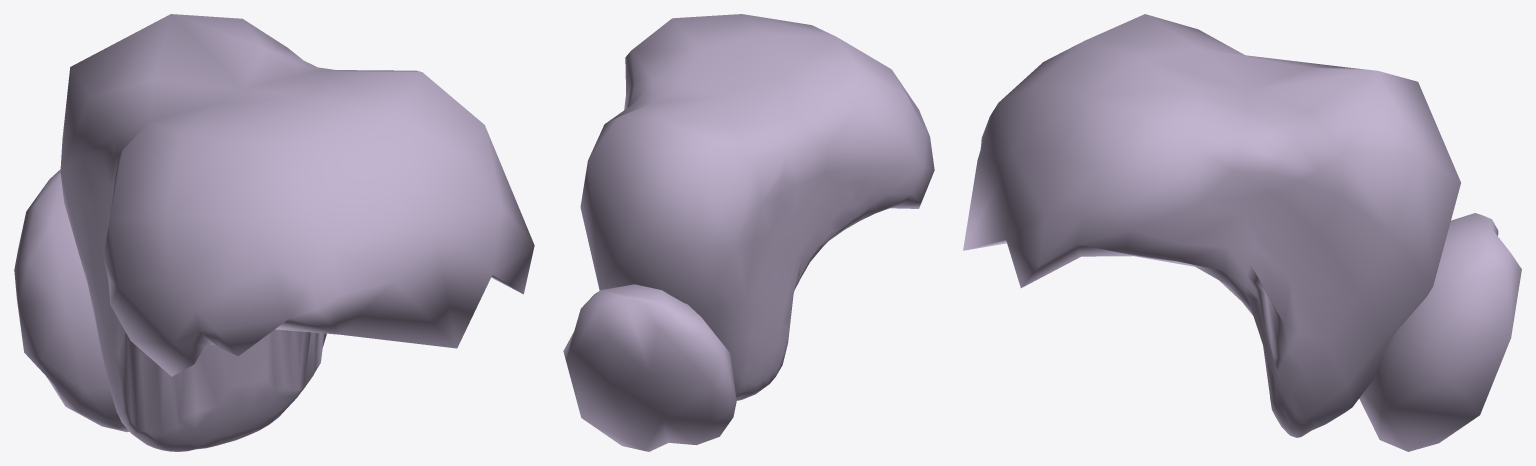
File: Mane_18.fbx
3 renders of one model, left to right at view 1: azimuth 30°, elevation 25°; view 2: azimuth 150°, elevation 25°; view 3: azimuth 270°, elevation 25°, orthographic. The views are drawn at different scales.
Parts seen in each view (by area): view 1: Mane_18; view 2: Mane_18; view 3: Mane_18.
Part boxes in pixels (<box>): Mane_18: <box>14,14,534,451</box>; Mane_18: <box>563,14,934,451</box>; Mane_18: <box>963,14,1521,451</box>.
Size of the model in its own units: 1.36 by 1.51 by 1.99.
